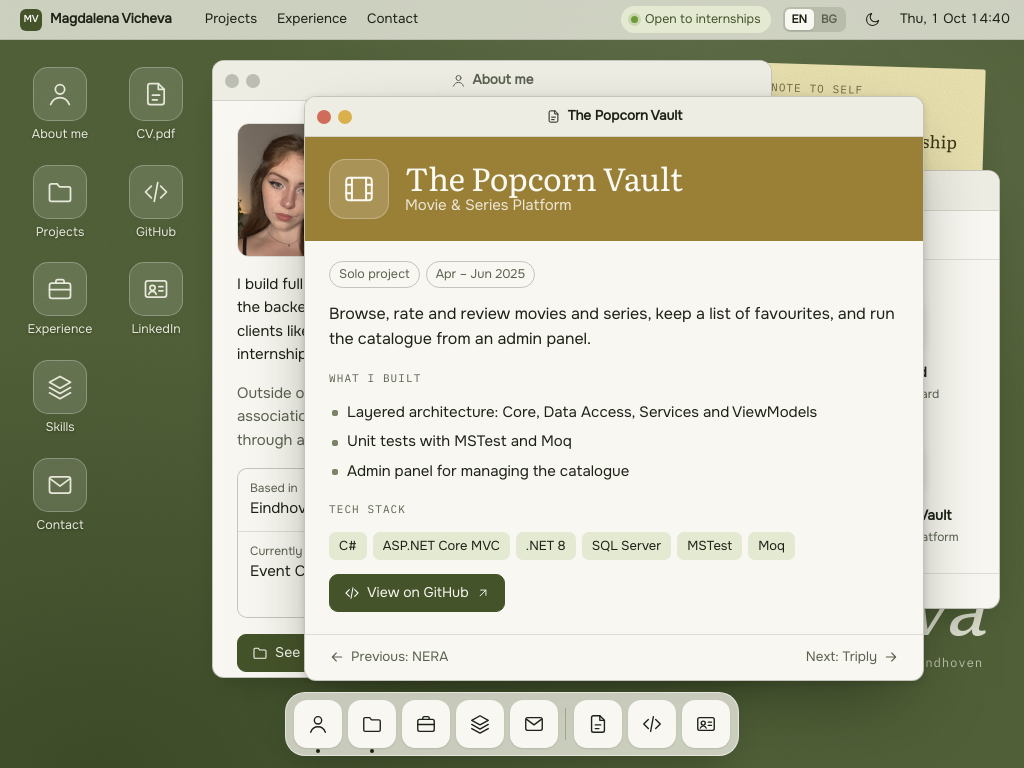
Test: Desktop › closes a window with its close button and reopens it from the dock
The width and height of the screenshot is (1024, 768).
Step 1. Click the button named "Close About me" → click(232, 80), box left=225, top=74, right=239, bottom=88
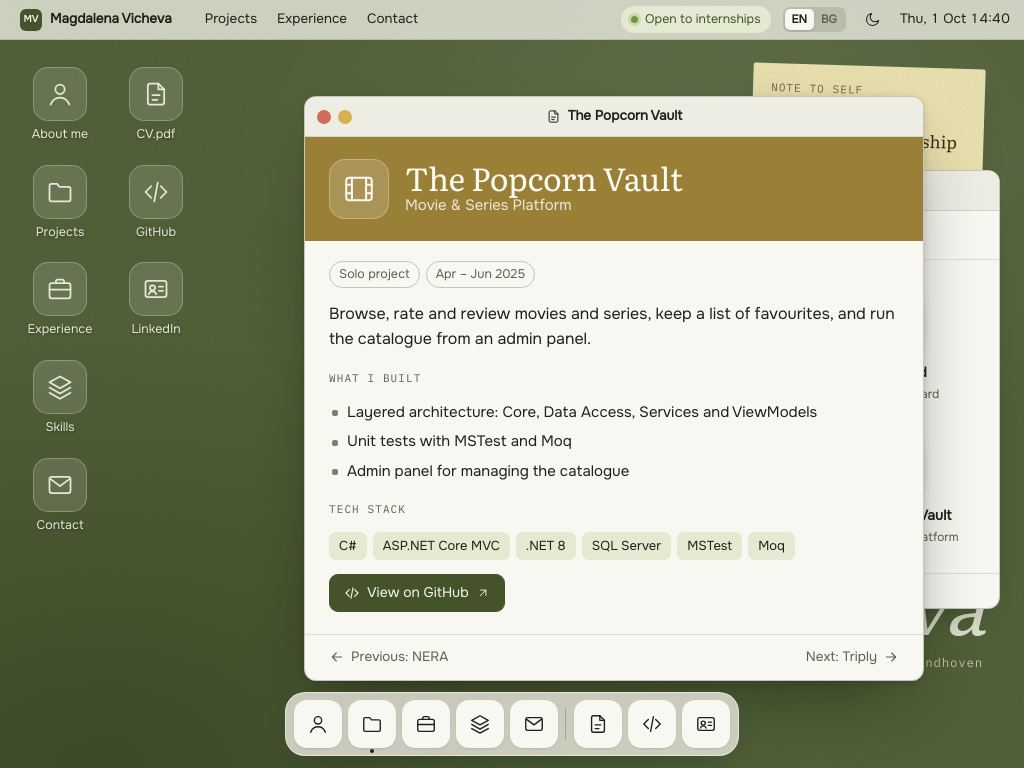
Step 2. Click the 1st button named "About me" → click(318, 724), box left=294, top=700, right=342, bottom=748
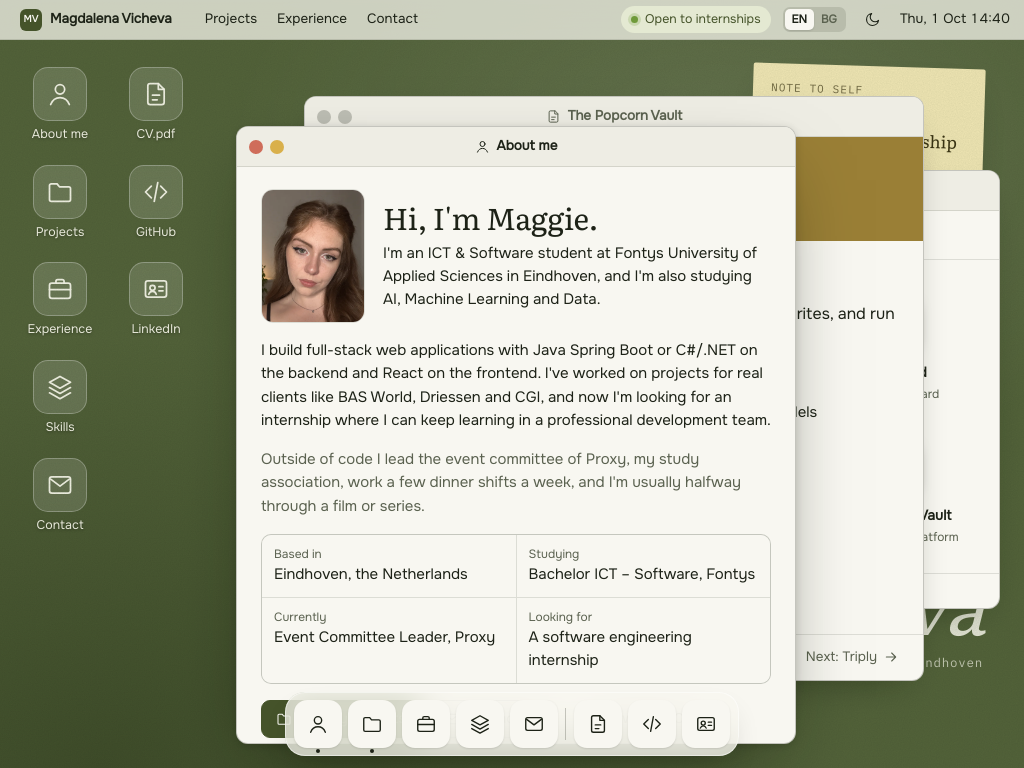
Now the dialog "About me" is shown, box left=236, top=126, right=796, bottom=744
